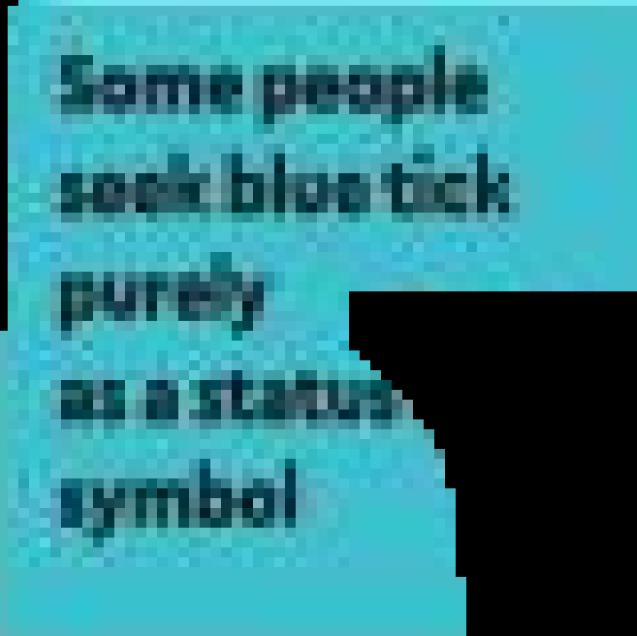paper: (0, 1, 637, 636)
